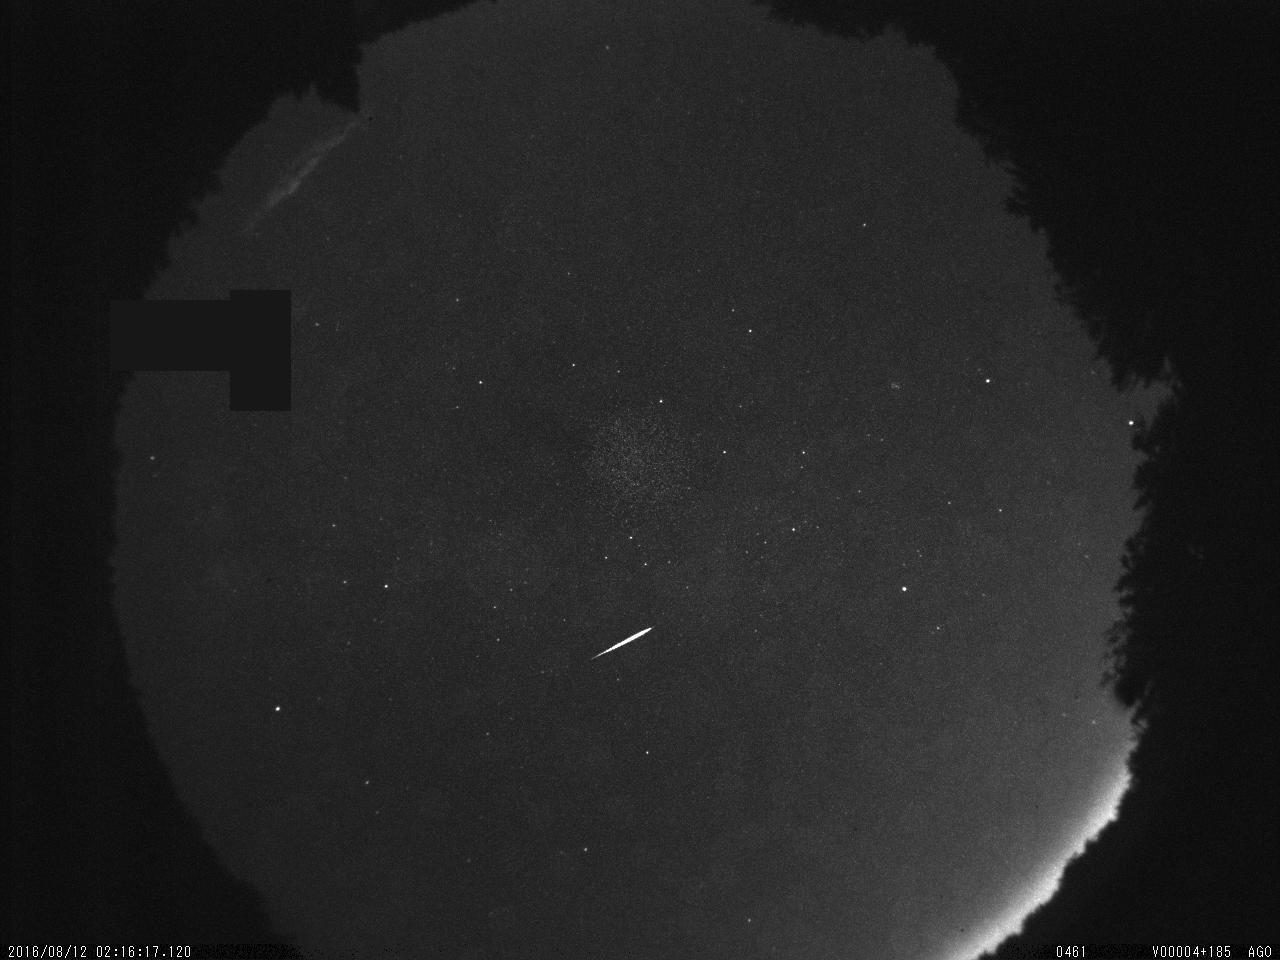meteor: (582, 617, 660, 668)
